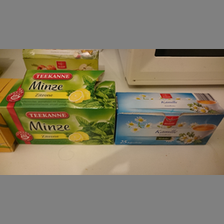tea: (1, 83, 116, 144), (114, 92, 223, 146)
